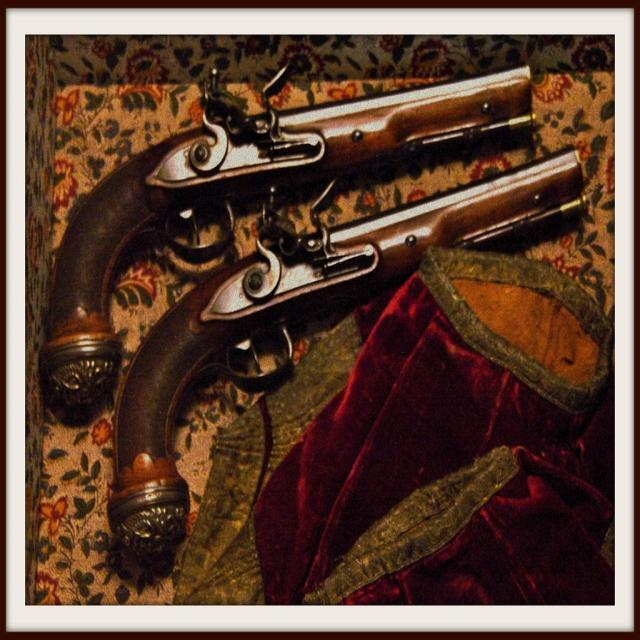weapon: (36, 62, 538, 424), (106, 182, 590, 556)
